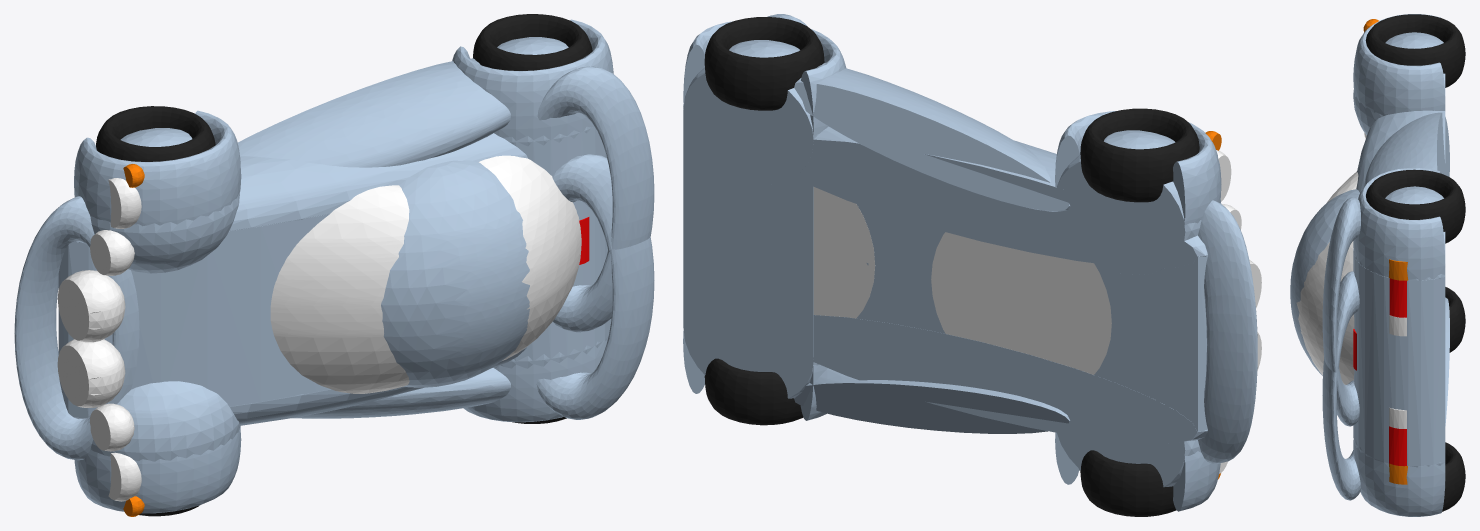
The model's file is rallie.dae.
The picture shows the model from 3 angles, left to right: view 1: azimuth 30°, elevation 25°; view 2: azimuth 150°, elevation 25°; view 3: azimuth 270°, elevation 25°; orthographic projection. The views are drawn at different scales.
Parts seen in each view (by area): view 1: node; view 2: node; view 3: node.
Part boxes in pixels (x1=…): node: x1=14, y1=14, x2=654, y2=516; node: x1=683, y1=14, x2=1261, y2=516; node: x1=1290, y1=14, x2=1465, y2=516.
Size of the model in its own units: 41.52 by 25.2 by 12.87.
